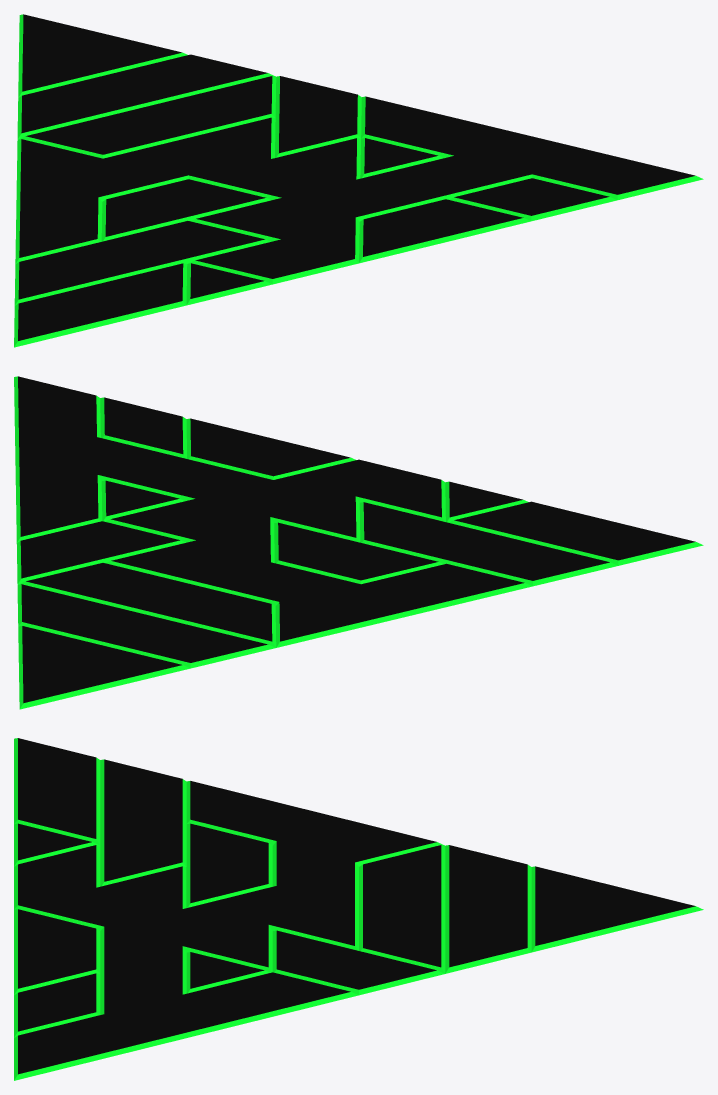
3 views of the same model, one above another, from view 1: azimuth 30°, elevation 25°; view 2: azimuth 150°, elevation 25°; view 3: azimuth 270°, elevation 25° (orthographic).
Visible parts, largest first — view 1: Cyberpunk Triangle Tile.007; view 2: Cyberpunk Triangle Tile.007; view 3: Cyberpunk Triangle Tile.007.
Boxes of the visible parts, left/top/right/bottom form: Cyberpunk Triangle Tile.007: left=14, top=14, right=703, bottom=347; Cyberpunk Triangle Tile.007: left=14, top=376, right=703, bottom=709; Cyberpunk Triangle Tile.007: left=14, top=738, right=703, bottom=1080.
Bounding box in the file's own units: 1.02 × 0.005 × 0.8664.
Materials: 1 (1 with a texture image).
